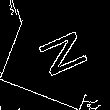N_SW: (24, 26, 86, 84)
